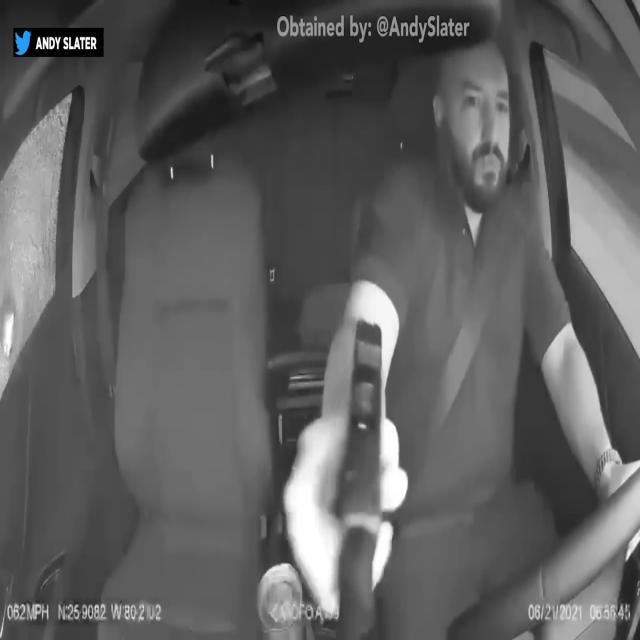senjata_api: (330, 314, 384, 640)
